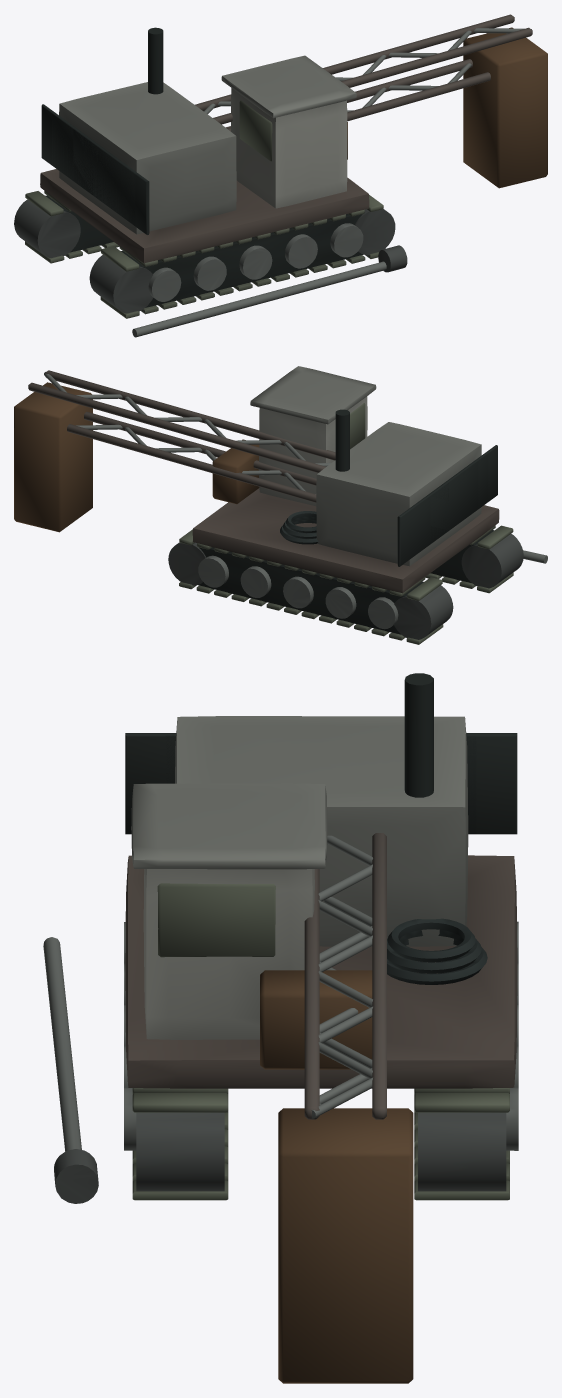
File: drill_rig_a_lod1.glb
The picture shows the model from 3 angles, top to bottom: view 1: azimuth 30°, elevation 25°; view 2: azimuth 150°, elevation 25°; view 3: azimuth 270°, elevation 25°; orthographic projection. The views are drawn at different scales.
Parts seen in each view (by area): view 1: Surface.001; view 2: Surface.001; view 3: Surface.001.
Boxes of the visible parts, <box> form: Surface.001: <box>14,14,547,337</box>; Surface.001: <box>14,366,547,644</box>; Surface.001: <box>43,673,518,1383</box>.
Bounding box in the file's own units: 8.35 × 3.47 × 3.88.
